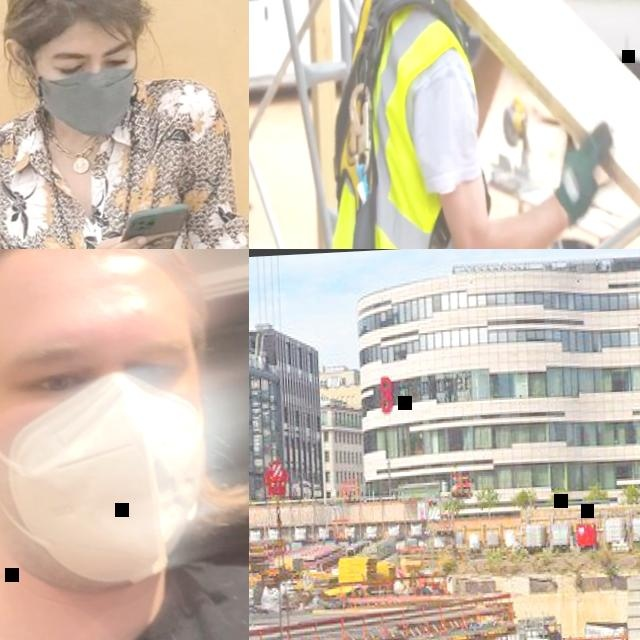Mask: (38, 68, 135, 137)
NO-Hardhat: (0, 249, 196, 318), (8, 0, 139, 46)
NO-Mask: (0, 376, 211, 595)
NO-Safety Vest: (0, 106, 206, 249), (0, 551, 249, 640)
Person: (0, 249, 249, 640), (295, 0, 630, 249), (0, 0, 249, 249)
Safety Vest: (297, 0, 486, 249)
vehicle: (249, 0, 398, 116)
